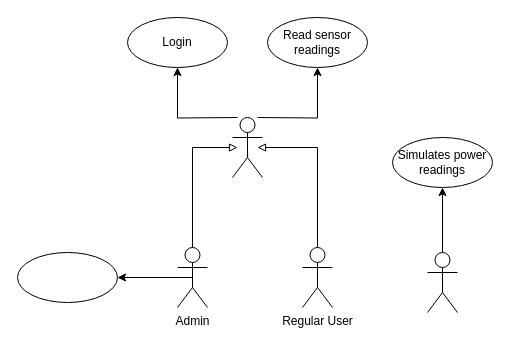
The diagram is 510 pixels wide and 351 high, and some of its shapes have lost their labels. Each missing label, with the centre of its shape:
"All Users" belongs at point 247,147.
"Connect device" belongs at point 67,277.
"System" belongs at point 442,282.
